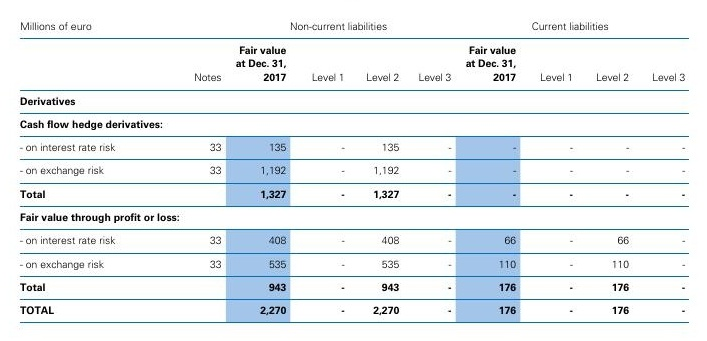table: (0, 0, 707, 341)
